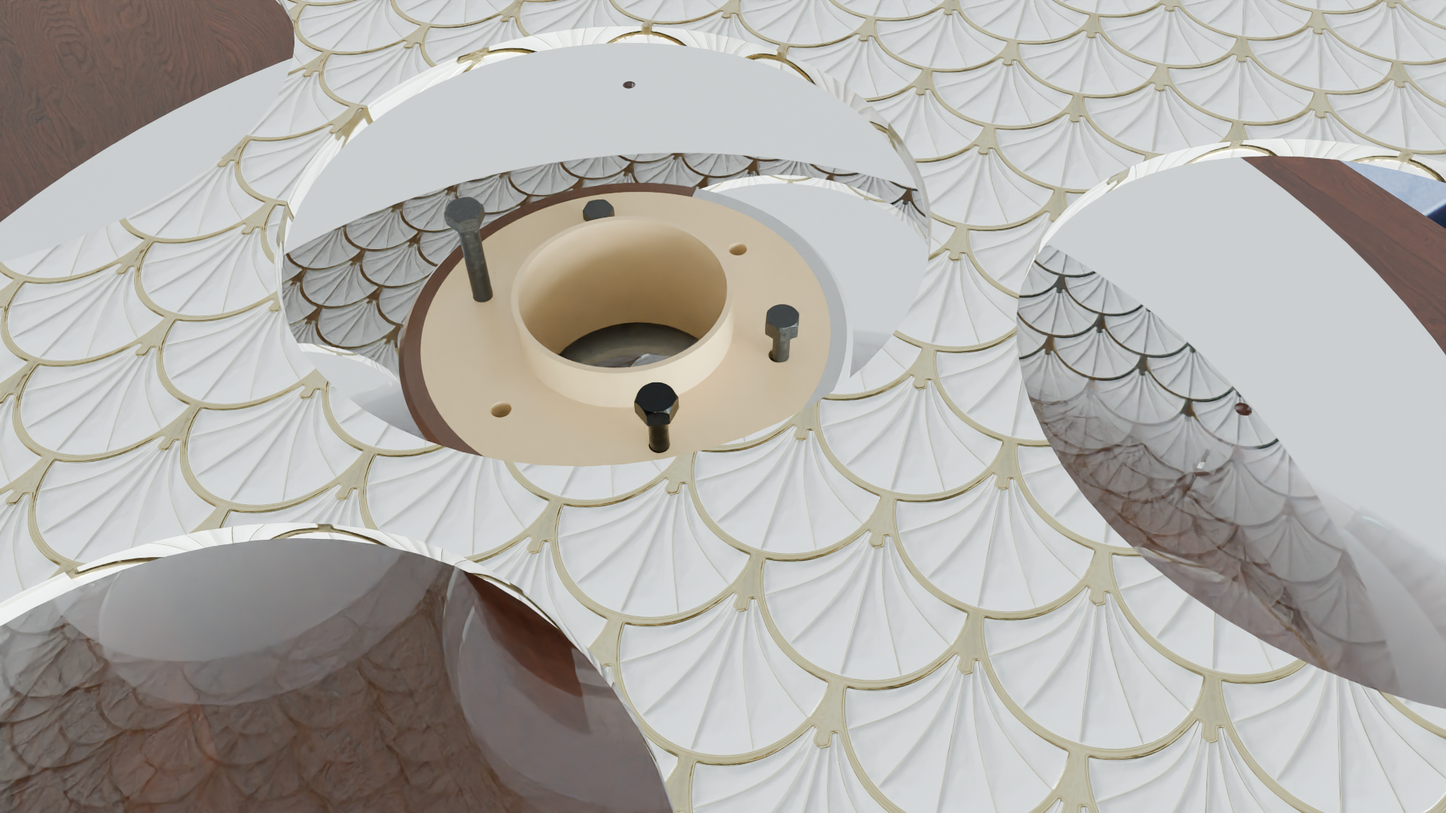bolt: (634, 382, 679, 416), (444, 196, 484, 223), (765, 304, 800, 333), (582, 199, 614, 219)
